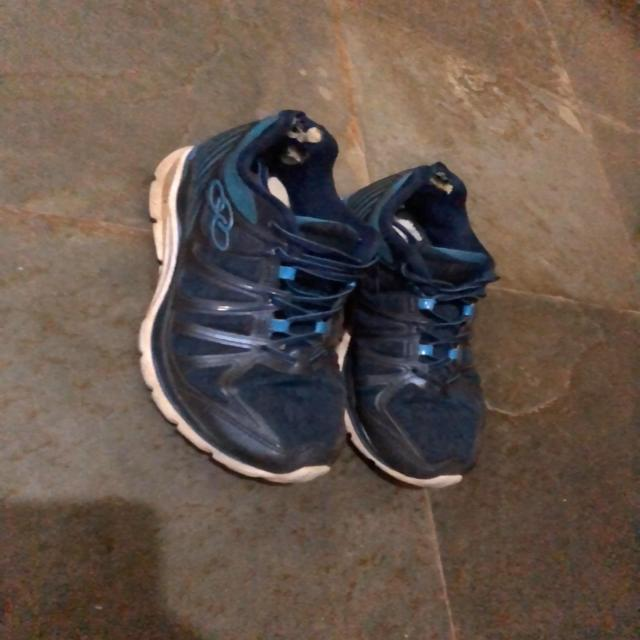shoe: (137, 113, 369, 490), (297, 163, 497, 491)
